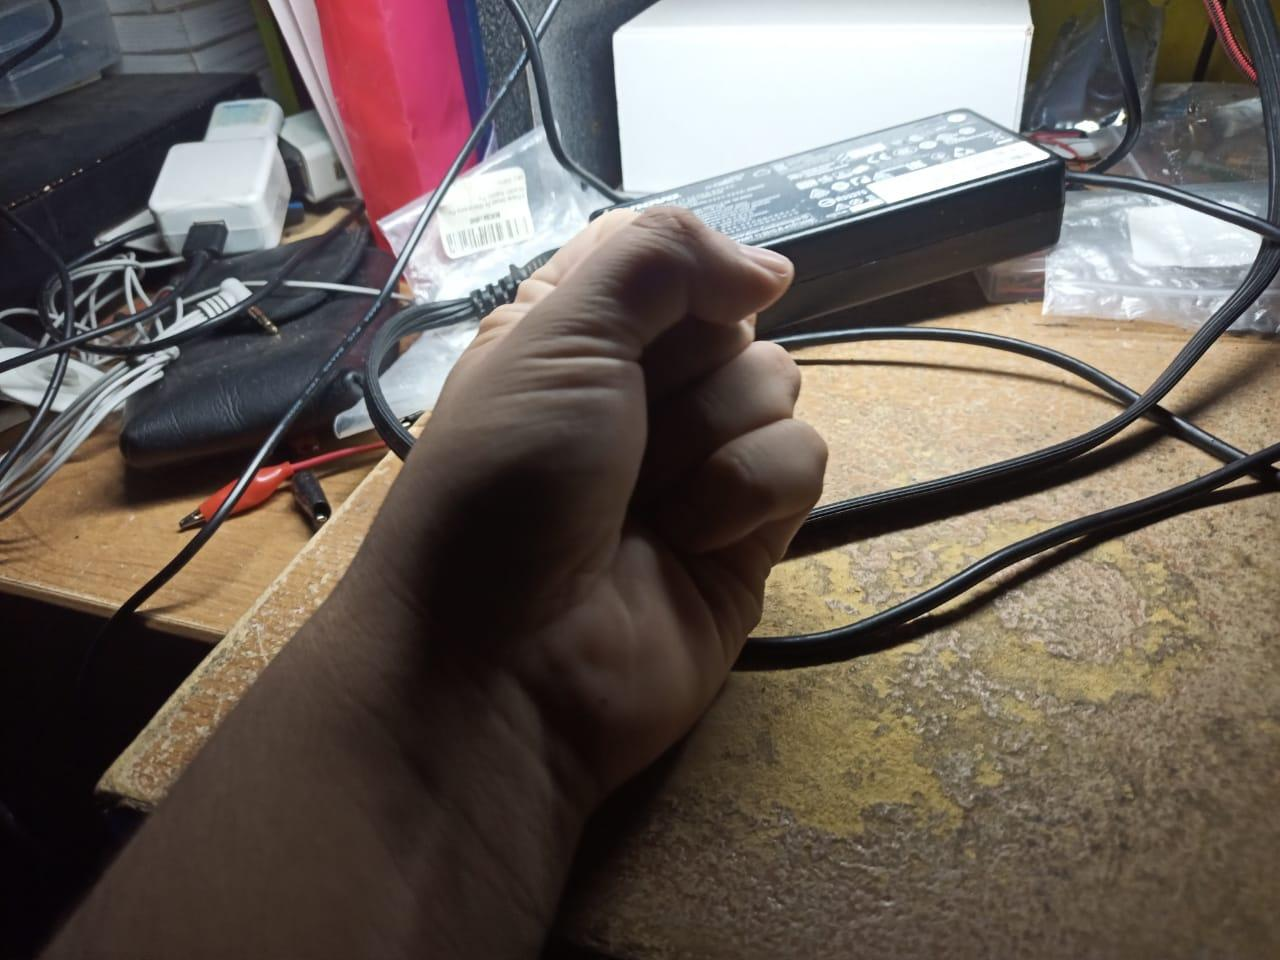Stone: (27, 206, 828, 960)
